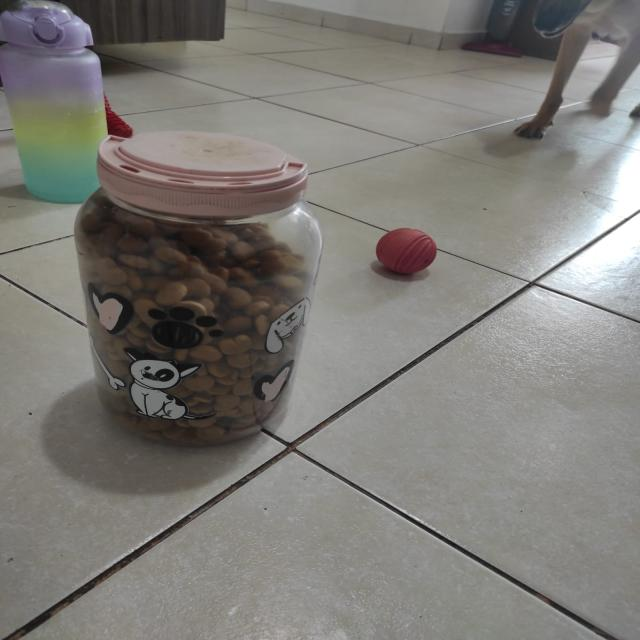bolinha: (366, 226, 438, 276)
garrafinha de agua: (0, 0, 110, 198)
racao: (92, 133, 308, 438)
